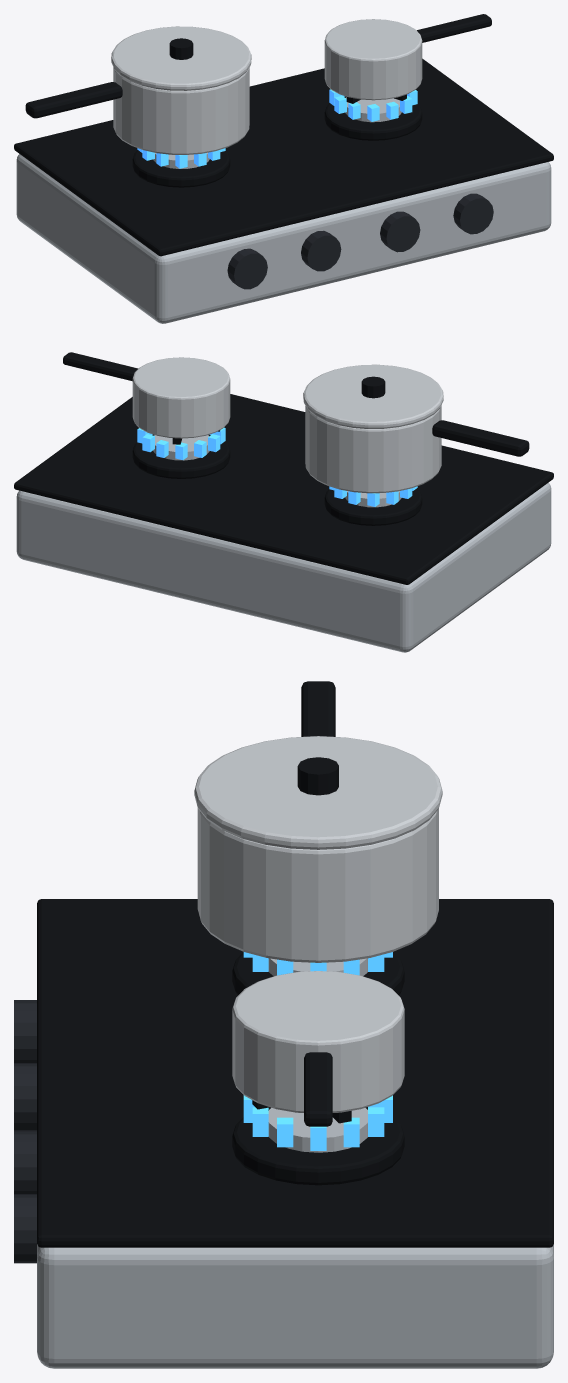
File: gas_stove_with_pot.glb
The picture shows the model from 3 angles, top to bottom: view 1: azimuth 30°, elevation 25°; view 2: azimuth 150°, elevation 25°; view 3: azimuth 270°, elevation 25°; orthographic projection. The views are drawn at different scales.
Visible parts, largest first — view 1: top, body, pot, milk_pan, pot_lid, burner.001, burner, pot_handle, knob, knob.003, knob.001, knob.002 (+3 smaller); view 2: top, body, pot, milk_pan, pot_lid, burner.001, burner, pot_handle, pan_handle, cap.001, lid_knob; view 3: top, body, pot, pot_lid, milk_pan, burner.001, pan_handle, cap.001, pot_handle, burner, knob.003, knob.001 (+3 smaller).
Boxes of the visible parts, x1,y1,x2,y2 form: top: (14,58,553,256); body: (16,154,551,323); pot: (113,67,249,154); milk_pan: (324,19,422,100); pot_lid: (111,26,251,90); burner.001: (324,96,422,140); burner: (132,150,230,187); pot_handle: (25,82,122,118); knob: (227,248,267,289); knob.003: (453,193,493,234); knob.001: (301,230,341,271); knob.002: (380,211,420,252); top: (14,394,553,584); body: (16,482,551,652); pot: (305,405,441,493); milk_pan: (132,357,230,438); pot_lid: (303,364,443,428); burner.001: (132,434,230,478); burner: (324,488,422,525); pot_handle: (432,420,529,456); pan_handle: (63,352,138,381); cap.001: (153,435,209,460); lid_knob: (361,376,385,398); top: (37,899,553,1247); body: (37,1244,553,1368); pot: (197,807,438,962); pot_lid: (194,736,442,849); milk_pan: (232,971,404,1112); burner.001: (232,1107,404,1185); pan_handle: (304,1052,332,1126); cap.001: (268,1107,367,1152); pot_handle: (301,681,335,736); burner: (232,952,404,995); knob.003: (14,1194,36,1263); knob.001: (14,1063,36,1131).
Bounding box in the file's own units: 0.815 × 0.342 × 0.47.
